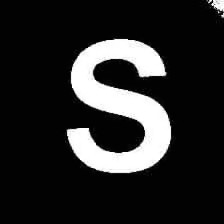LTR_S: (65, 35, 177, 175)
